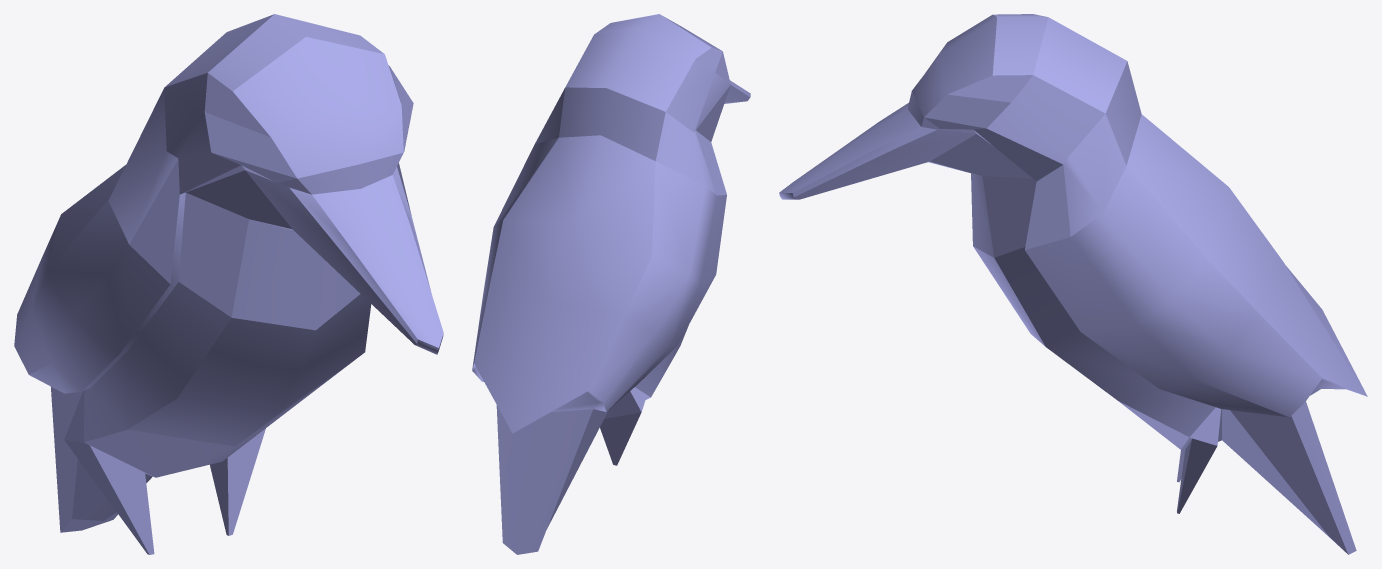
Rendered from atthis_gltf_.gltf.
3 views of the same model, side by side, from view 1: azimuth 30°, elevation 25°; view 2: azimuth 150°, elevation 25°; view 3: azimuth 270°, elevation 25° (orthographic). The views are drawn at different scales.
Visible parts, largest first — view 1: Default; view 2: Default; view 3: Default.
Boxes of the visible parts, x1,y1,x2,y2 form: Default: [14, 14, 443, 554]; Default: [472, 14, 750, 554]; Default: [779, 14, 1367, 554].
Bounding box in the file's own units: 4.17 × 8.81 × 8.78.
